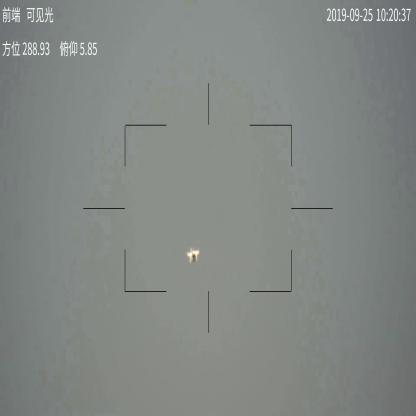uav: (184, 246, 200, 264)
